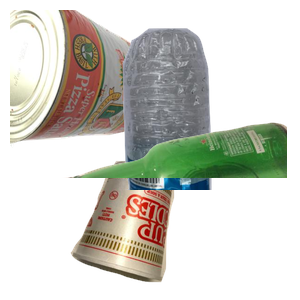glass: (60, 120, 300, 300)
metal: (10, 10, 159, 152)
plastic: (111, 26, 300, 206)
trash: (68, 158, 235, 300)
